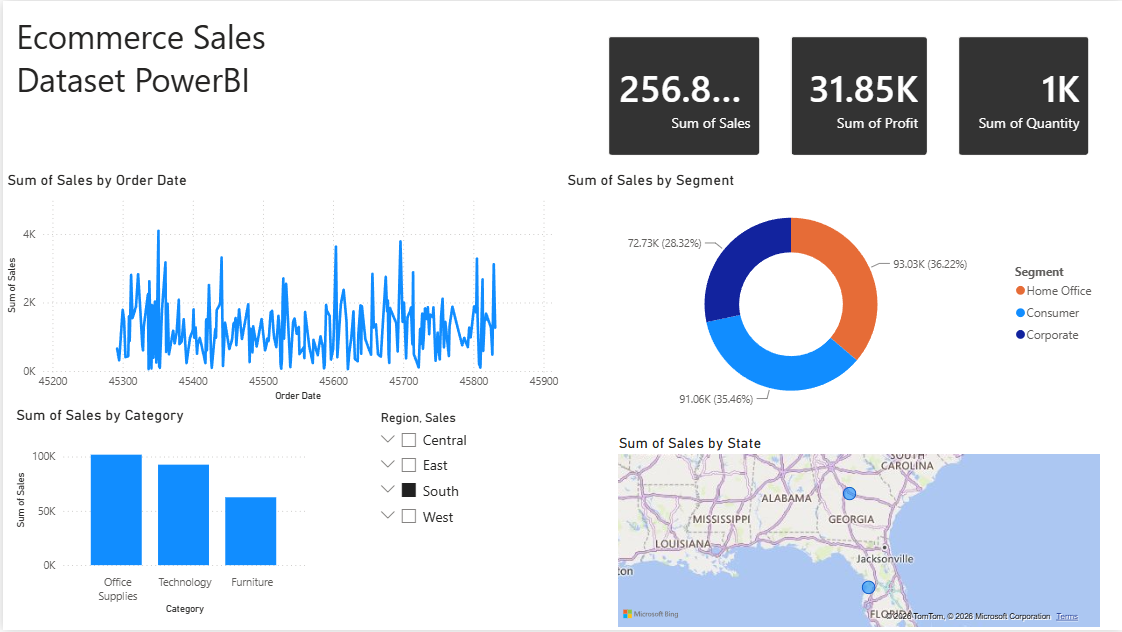

What the dashboard file says about the page in this screenshot:
{"tool":"powerbi","page":{"name":"Page 1","canvas":[1280,720],"ordinal":0},"visuals":[{"type":"cardVisual","fields":{"Data":["Sum(Orders.Sales)"]},"box":[674.3,22.9,208.6,171.4],"z":0},{"type":"cardVisual","fields":{"Data":["Sum(Orders.Profit)"]},"box":[882.9,22.9,191.4,171.4],"z":1000},{"type":"cardVisual","fields":{"Data":["Sum(Orders.Quantity)"]},"box":[1074.3,22.9,184.3,171.4],"z":2000},{"type":"clusteredColumnChart","fields":{"Category":["Orders.Category"],"Y":["Sum(Orders.Sales)"]},"box":[10,462.9,341.4,242.9],"z":3000},{"type":"donutChart","fields":{"Category":["Orders.Segment"],"Y":["Sum(Orders.Sales)"]},"box":[640,194.3,618.6,285.7],"z":3001},{"type":"map","fields":{"Category":["Orders.State"],"Size":["Sum(Orders.Sales)"]},"box":[698.6,494.3,560,225.7],"z":3002},{"type":"lineChart","fields":{"Category":["Orders.Order Date"],"Y":["Sum(Orders.Sales)"]},"box":[0,194.3,640,268.6],"z":3003},{"type":"slicer","fields":{"Values":["Orders.Region","Orders.Sales"]},"box":[418.6,462.9,280,242.9],"z":3004},{"type":"textbox","box":[10,10,408.6,118.6],"z":3005}]}

Visuals, with their boxes in screenshot pixels (x1, y1, x2, y2), scaled from the page's 1280x720 canvas onto the 1122x632 screenshot:
cardVisual - Sum(Orders.Sales): <box>591,20,774,171</box>
cardVisual - Sum(Orders.Profit): <box>774,20,942,171</box>
cardVisual - Sum(Orders.Quantity): <box>942,20,1103,171</box>
clusteredColumnChart - Orders.Category x Sum(Orders.Sales): <box>9,406,308,620</box>
donutChart - Orders.Segment x Sum(Orders.Sales): <box>561,171,1103,421</box>
map - Orders.State x Sum(Orders.Sales): <box>612,434,1103,631</box>
lineChart - Orders.Order Date x Sum(Orders.Sales): <box>0,171,561,406</box>
slicer - Orders.Region x Orders.Sales: <box>367,406,612,620</box>
textbox: <box>9,9,367,113</box>
